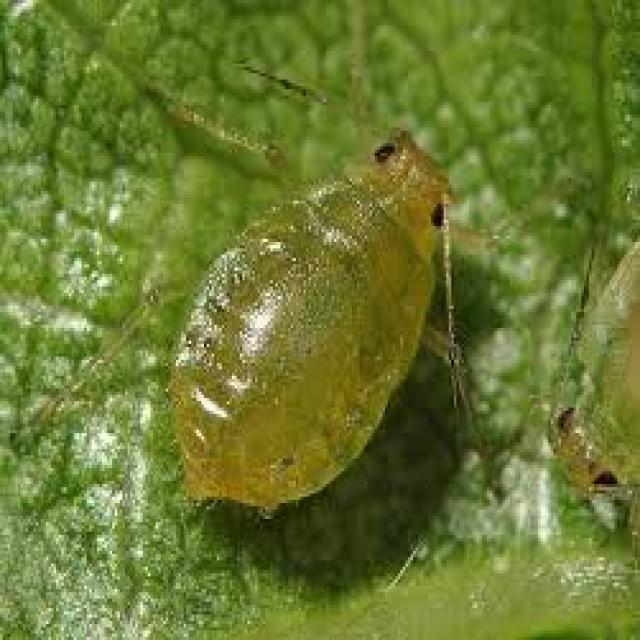Aphids: (138, 119, 534, 580)
